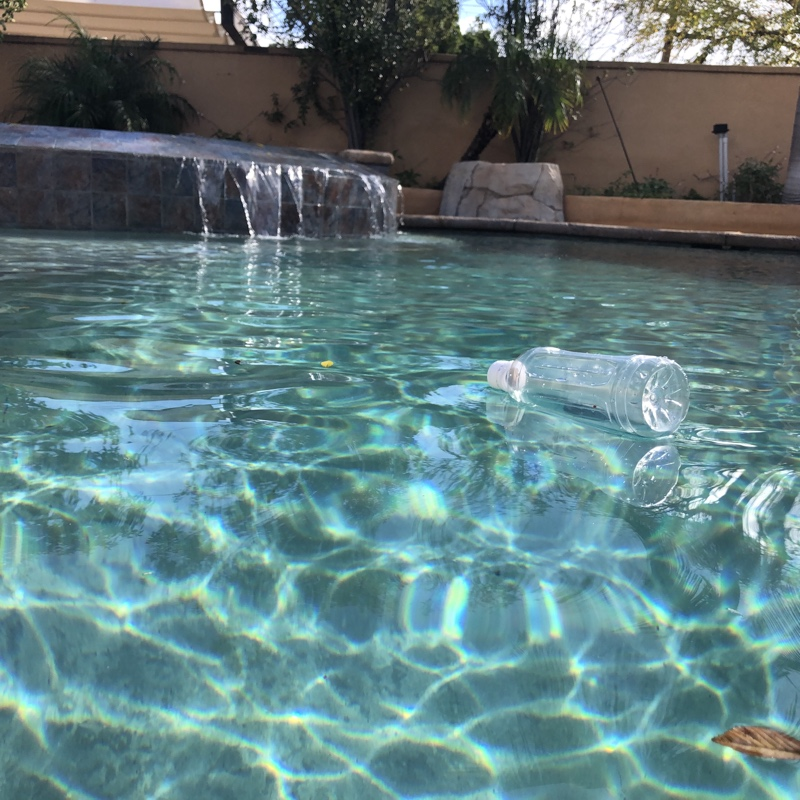Plastic Bottle: (484, 342, 692, 438)
